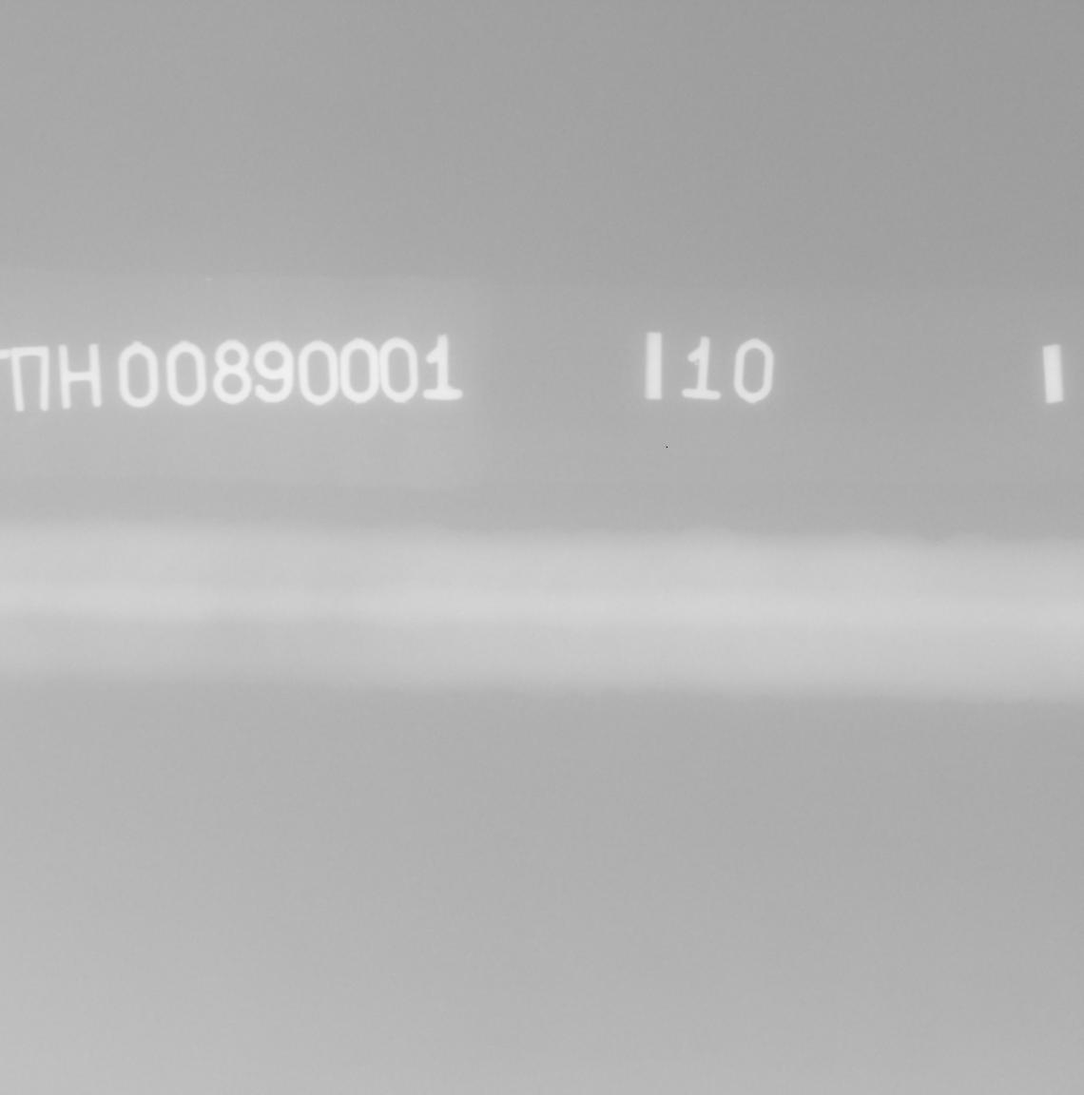Pore/Porosity: (912, 629, 917, 634), (557, 628, 562, 632)
